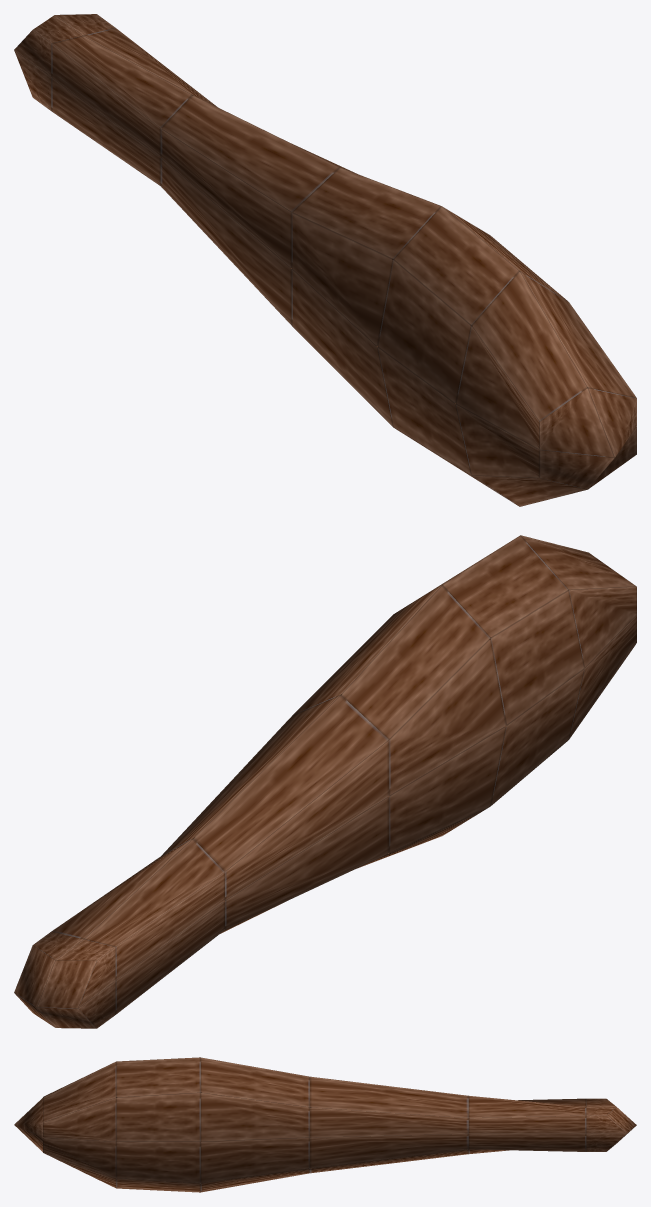
The picture shows the model from 3 angles, top to bottom: view 1: azimuth 30°, elevation 25°; view 2: azimuth 150°, elevation 25°; view 3: azimuth 270°, elevation 25°; orthographic projection. The views are drawn at different scales.
Visible parts, largest first — view 1: T1L6M009_17; view 2: T1L6M009_17; view 3: T1L6M009_17.
Part boxes in pixels (box(x1,y1,x2,y2)): T1L6M009_17: box(14, 14, 636, 506); T1L6M009_17: box(14, 535, 636, 1028); T1L6M009_17: box(14, 1057, 636, 1192).
Bounding box in the file's own units: 0.1592 × 0.2959 × 1.24.
